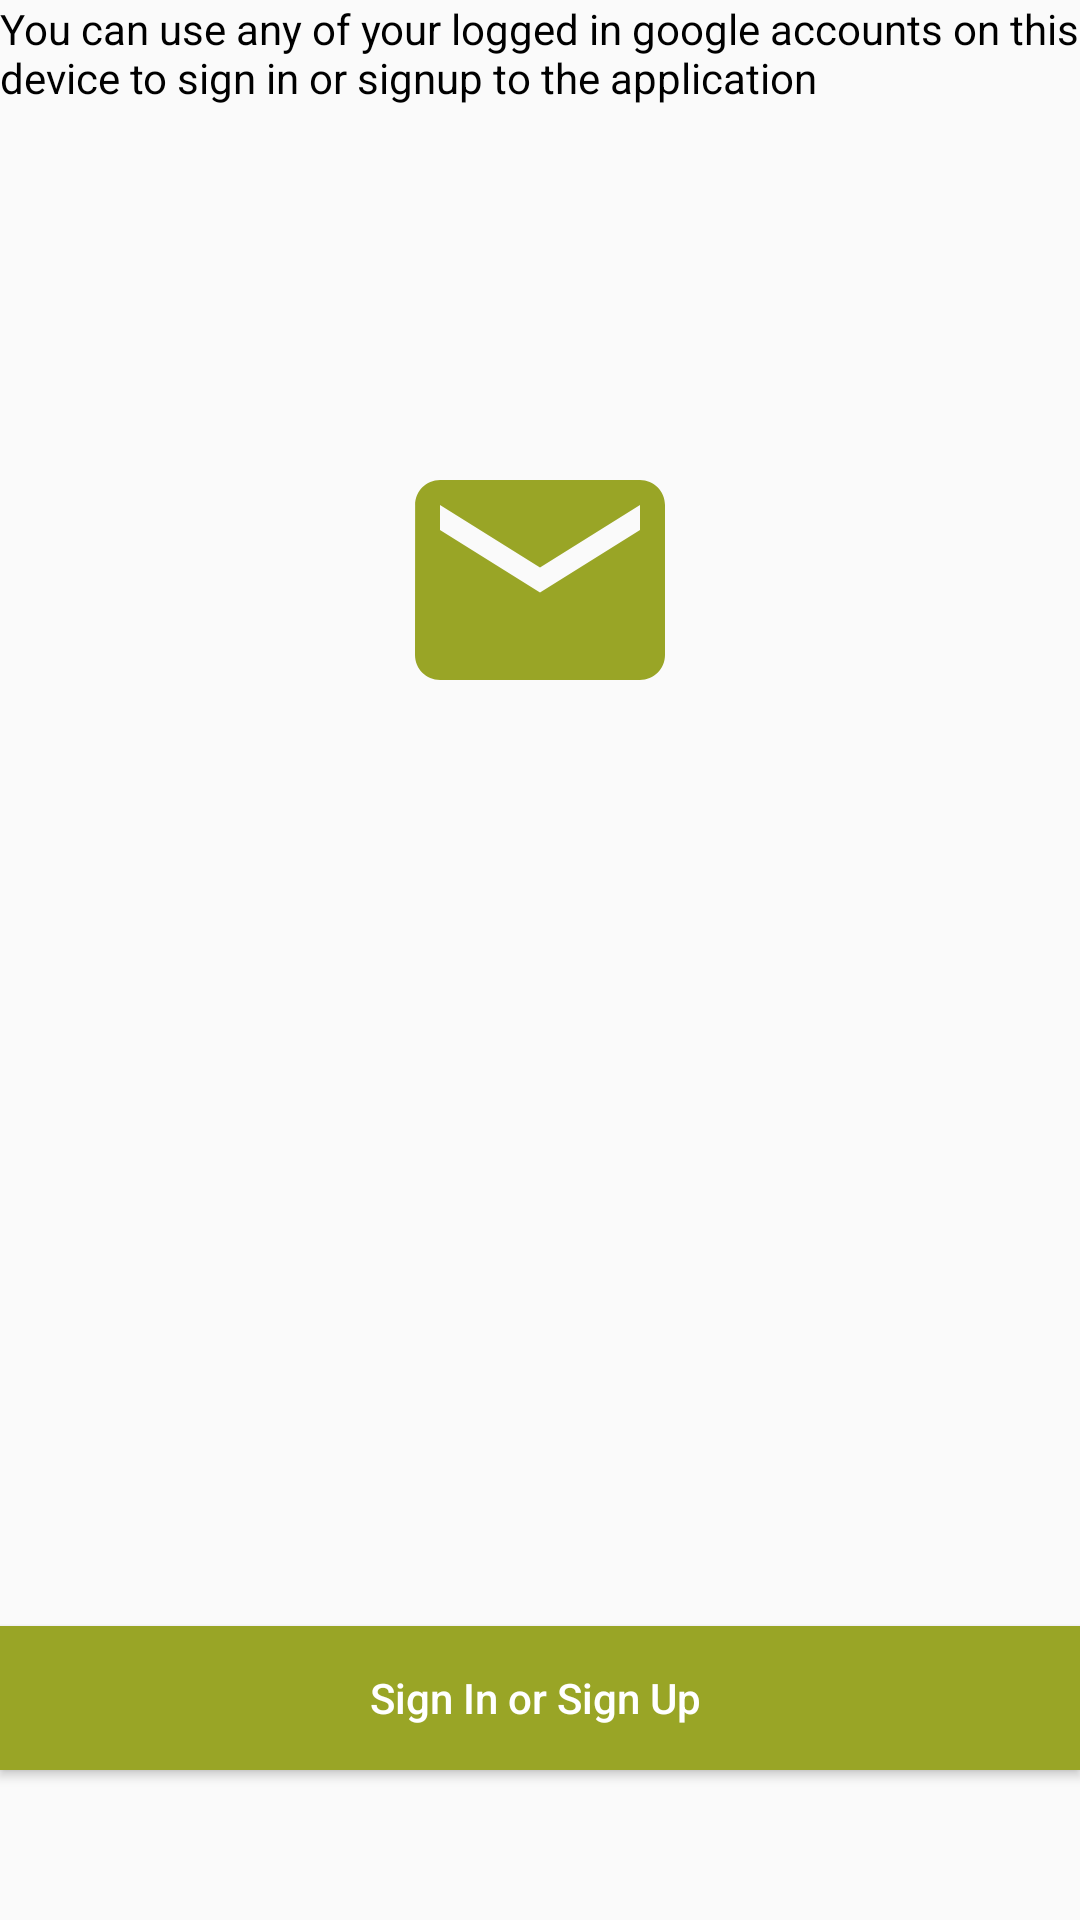

Icon click points for this 1080 x 1920 phone screenshot, format [x,y]:
email: [540,580]
